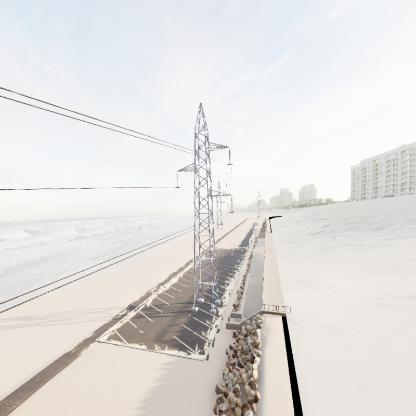tower: (170, 101, 236, 320)
